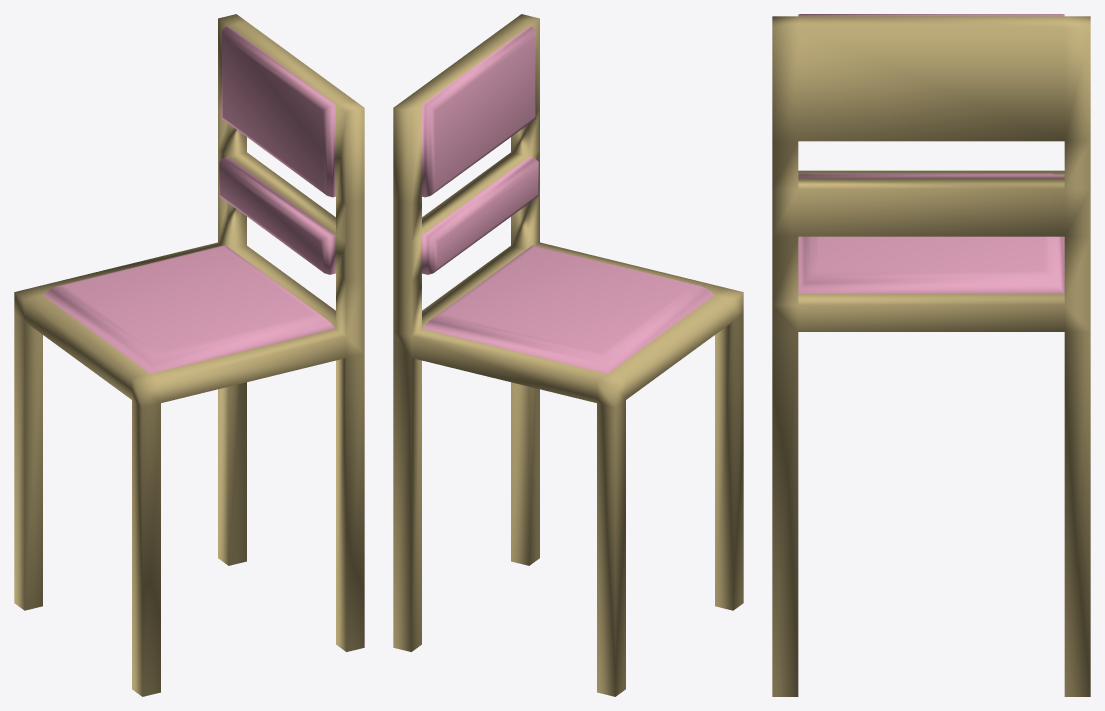
File: tuoli.fbx
3 renders of one model, left to right at view 1: azimuth 30°, elevation 25°; view 2: azimuth 150°, elevation 25°; view 3: azimuth 270°, elevation 25°, orthographic. The views are drawn at different scales.
Visible parts, largest first — view 1: Cube; view 2: Cube; view 3: Cube.
Part boxes in pixels (x1,y1,x2,y2): Cube: (14, 14, 364, 696); Cube: (393, 14, 743, 696); Cube: (772, 14, 1090, 696).
Size of the model in its own units: 93.39 by 217 by 93.39.
